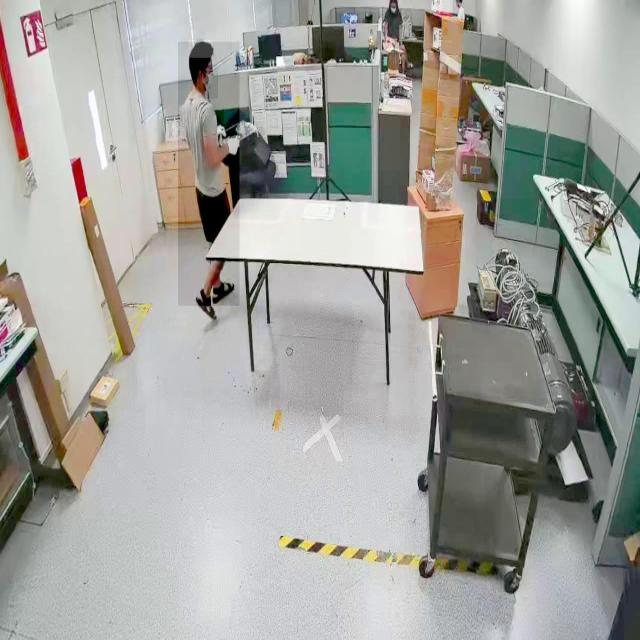face_mask: (198, 65, 218, 99), (389, 2, 398, 18)
hand_glove: (224, 134, 242, 166)
head_nohelmet: (189, 40, 213, 59)
person: (178, 41, 240, 306), (376, 0, 404, 59)
